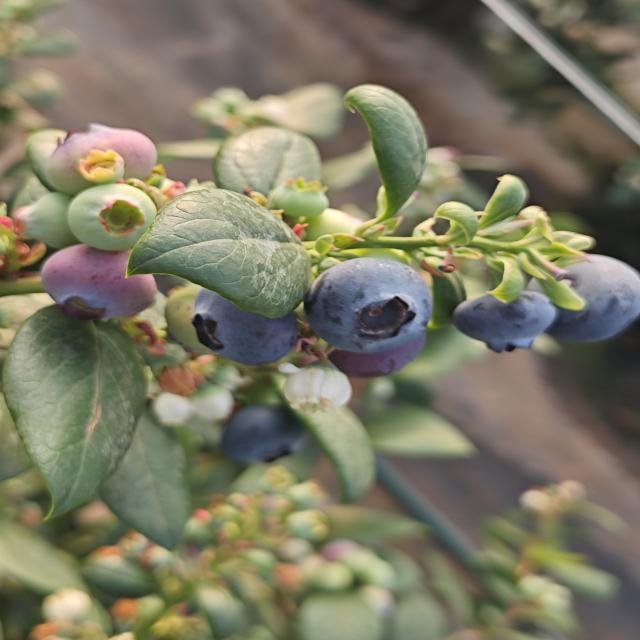ripe: (302, 255, 435, 358), (530, 251, 638, 346), (188, 285, 302, 368), (312, 323, 442, 380), (449, 288, 559, 355), (214, 398, 308, 472)
